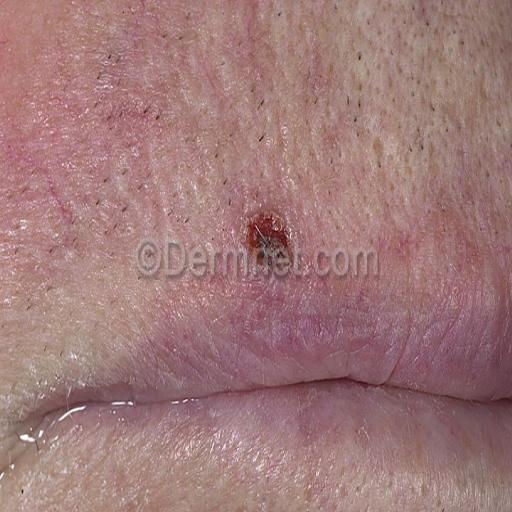Skin_Lesion: (242, 196, 293, 274)
